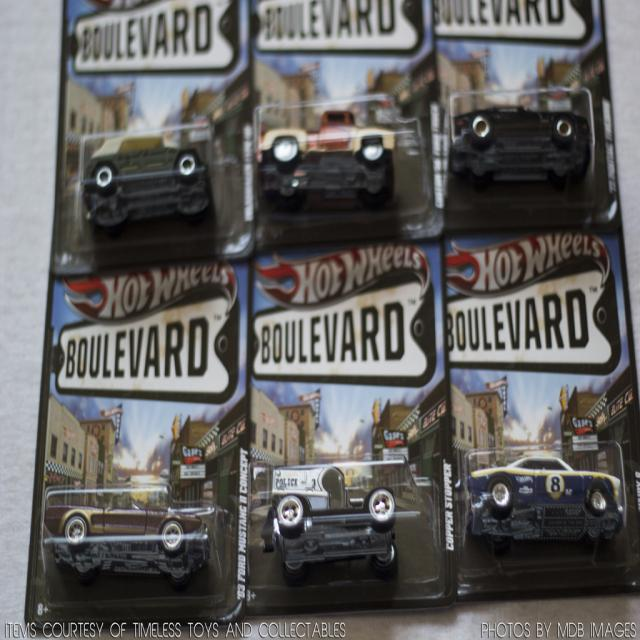car: (46, 479, 231, 585), (268, 469, 403, 585), (466, 448, 620, 546), (256, 107, 406, 207), (87, 129, 214, 238), (453, 100, 593, 185)
